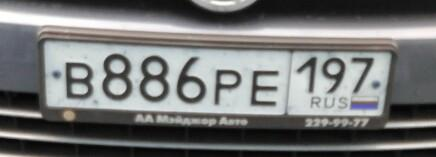license-plateSW: (35, 39, 398, 118)
